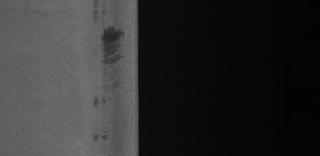oil spot: (100, 25, 126, 91), (90, 92, 114, 144), (91, 1, 103, 26)
